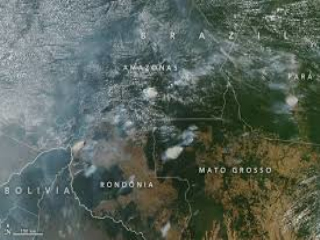smoke: (160, 122, 202, 164), (68, 136, 109, 178), (277, 87, 309, 118)
